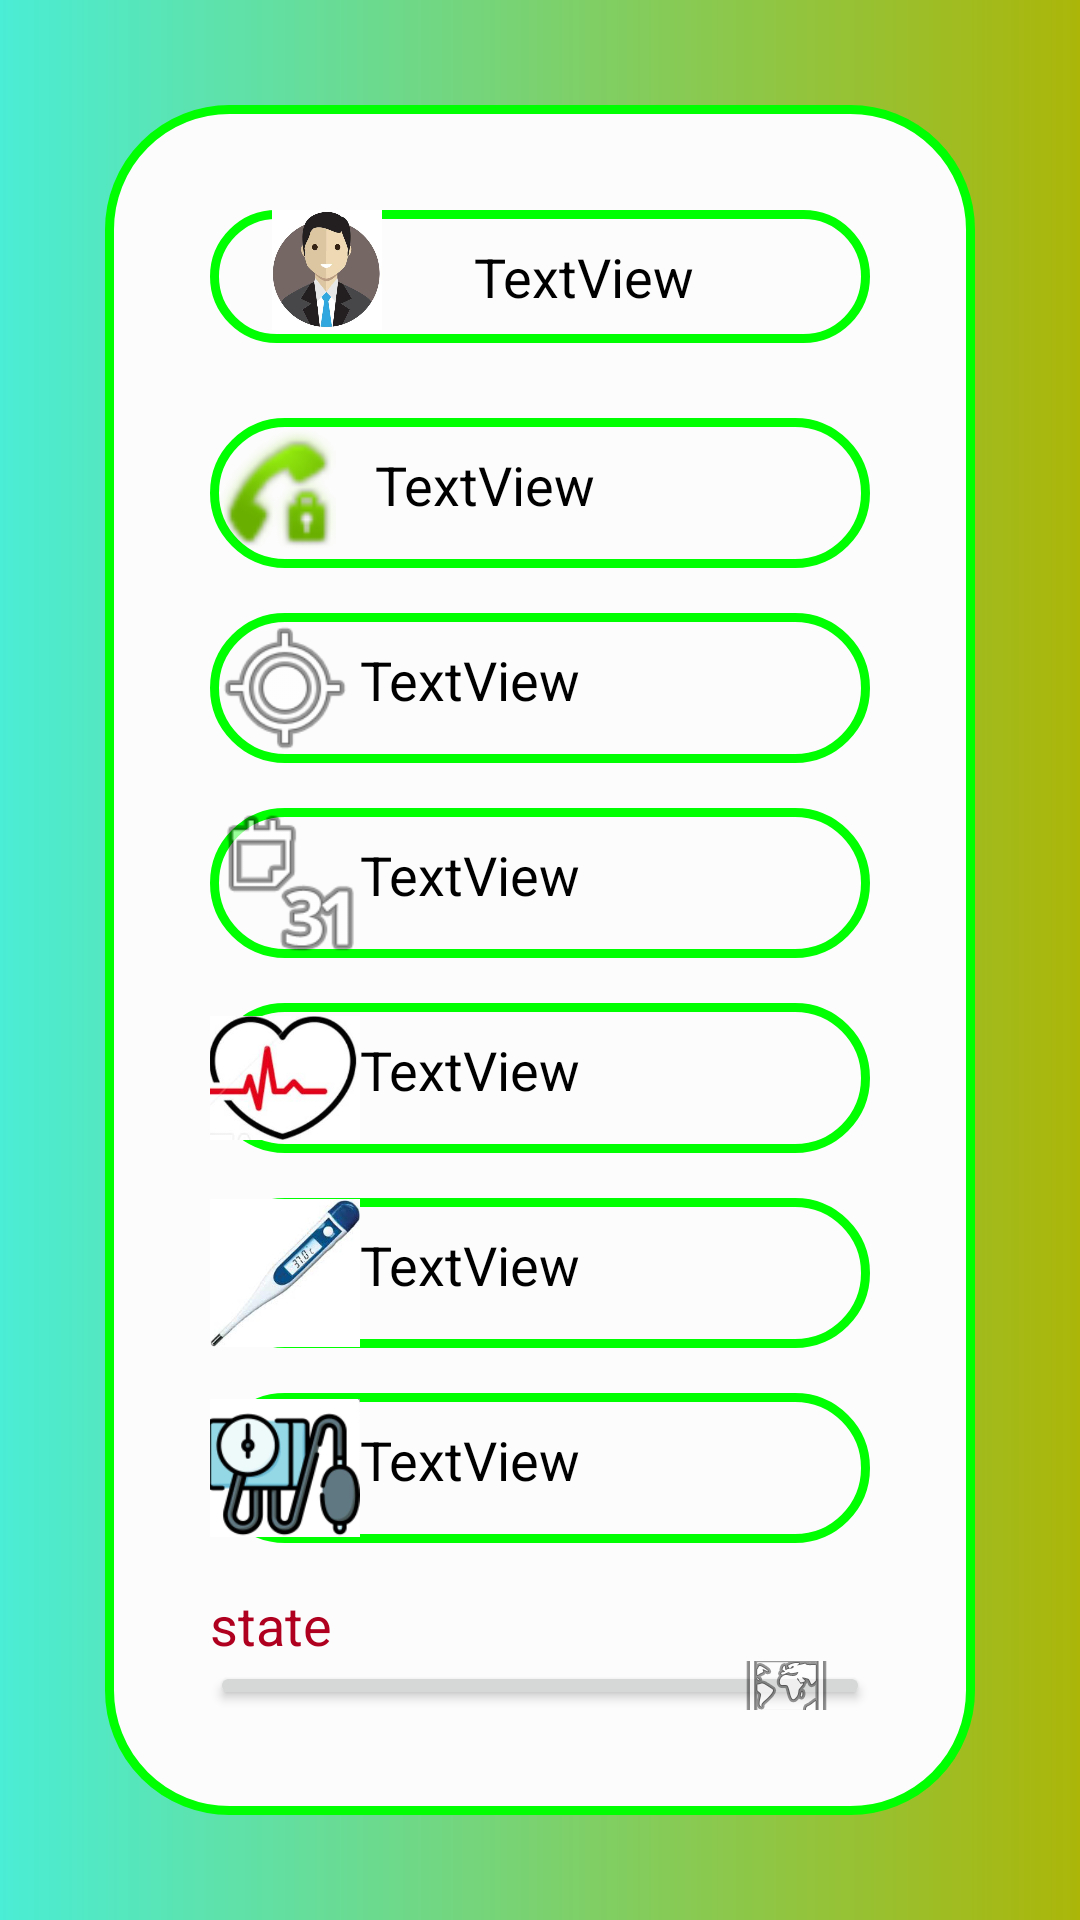

Named icons in this screenshot (1080×1920) and their centers, (x=x, y=y):
month: (x=285, y=883)
mylocation: (x=285, y=688)
phone call: (x=277, y=493)
